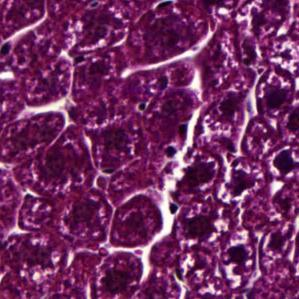inflammation: (104, 186, 172, 255), (249, 65, 298, 117), (215, 155, 266, 204), (215, 237, 264, 286)
